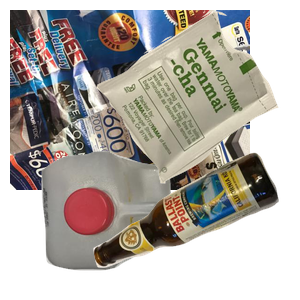glass: (91, 150, 300, 300)
paper: (10, 10, 250, 190)
plastic: (39, 149, 203, 300)
trash: (91, 10, 300, 186)
